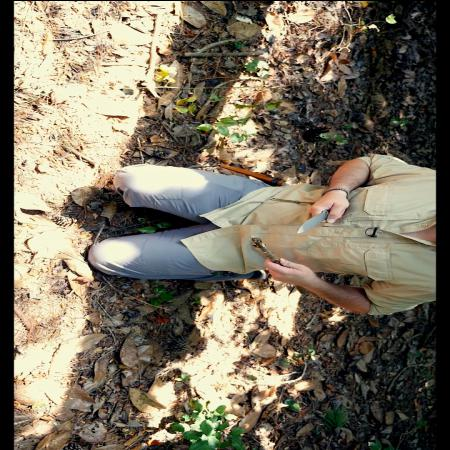long weapon: (294, 193, 345, 235)
